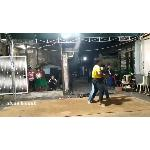Celurit: (102, 68, 112, 82)
